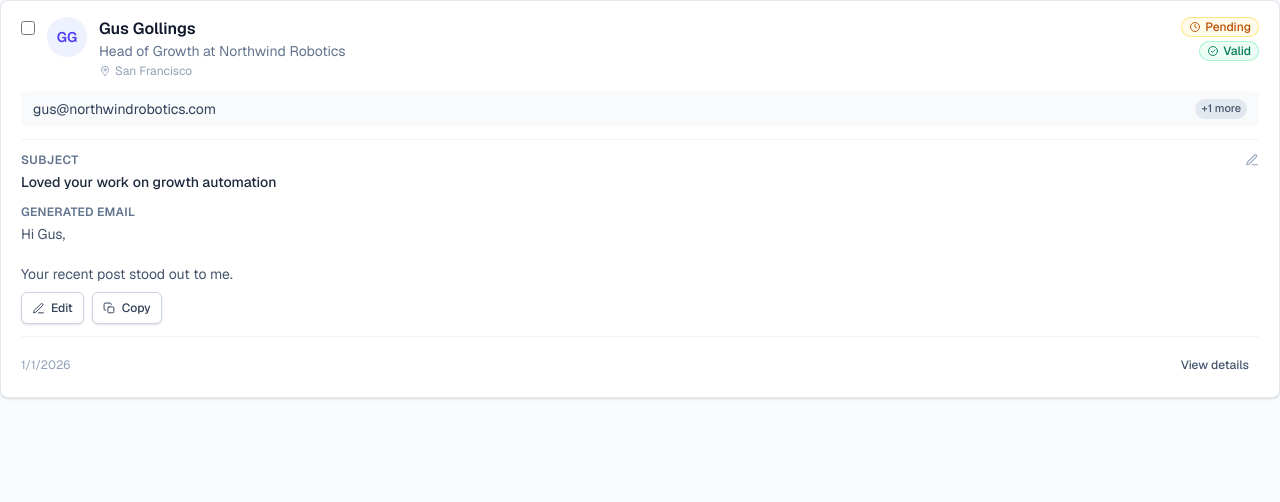
Test: LeadCard › shows an error message when saving fails
This screenshot has width=1280, height=502.
Click the button named "Edit subject".
click(1252, 160)  # box [1245,153,1259,167]
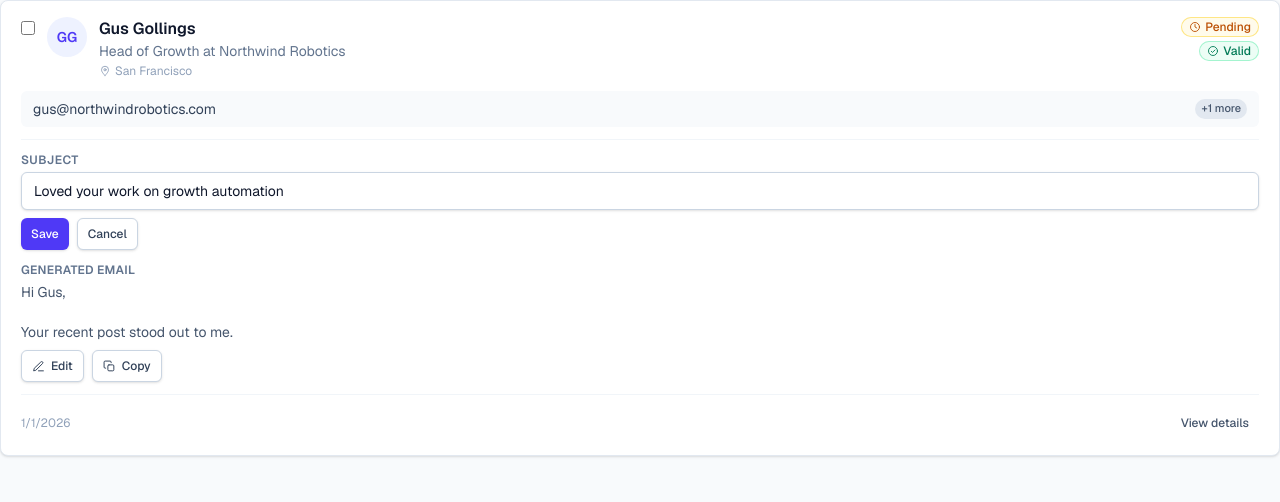
Click the button "Save".
click(45, 234)  # box [21,218,69,250]
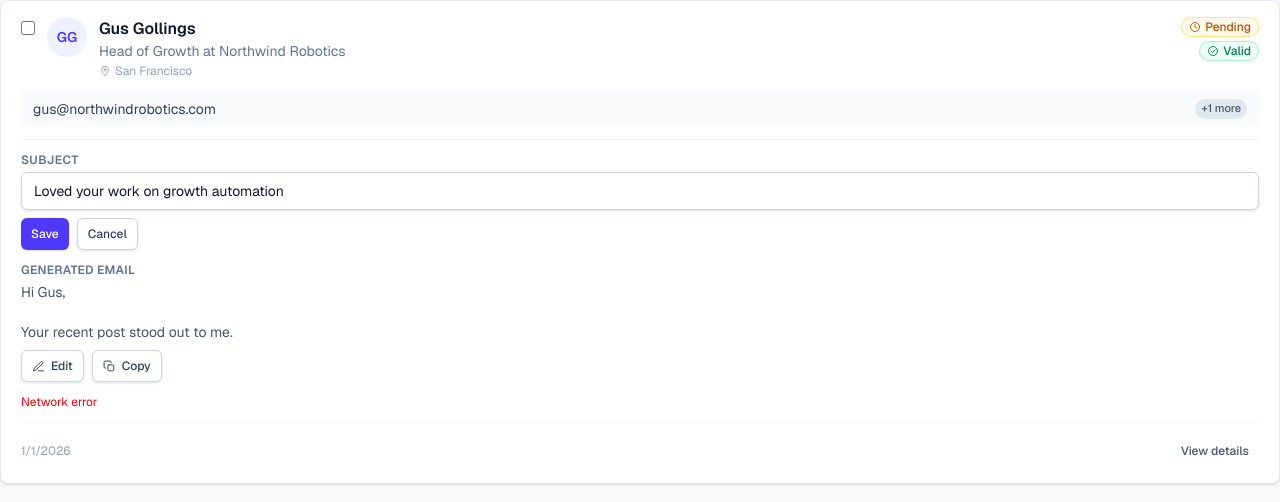
Check: the text "Network error" is shown, box [21,394,97,410]
